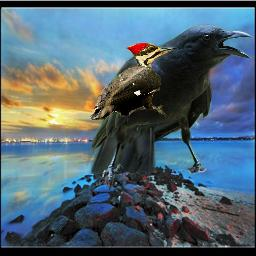Crow: (86, 24, 253, 190)
Woodpecker: (90, 43, 178, 120)
